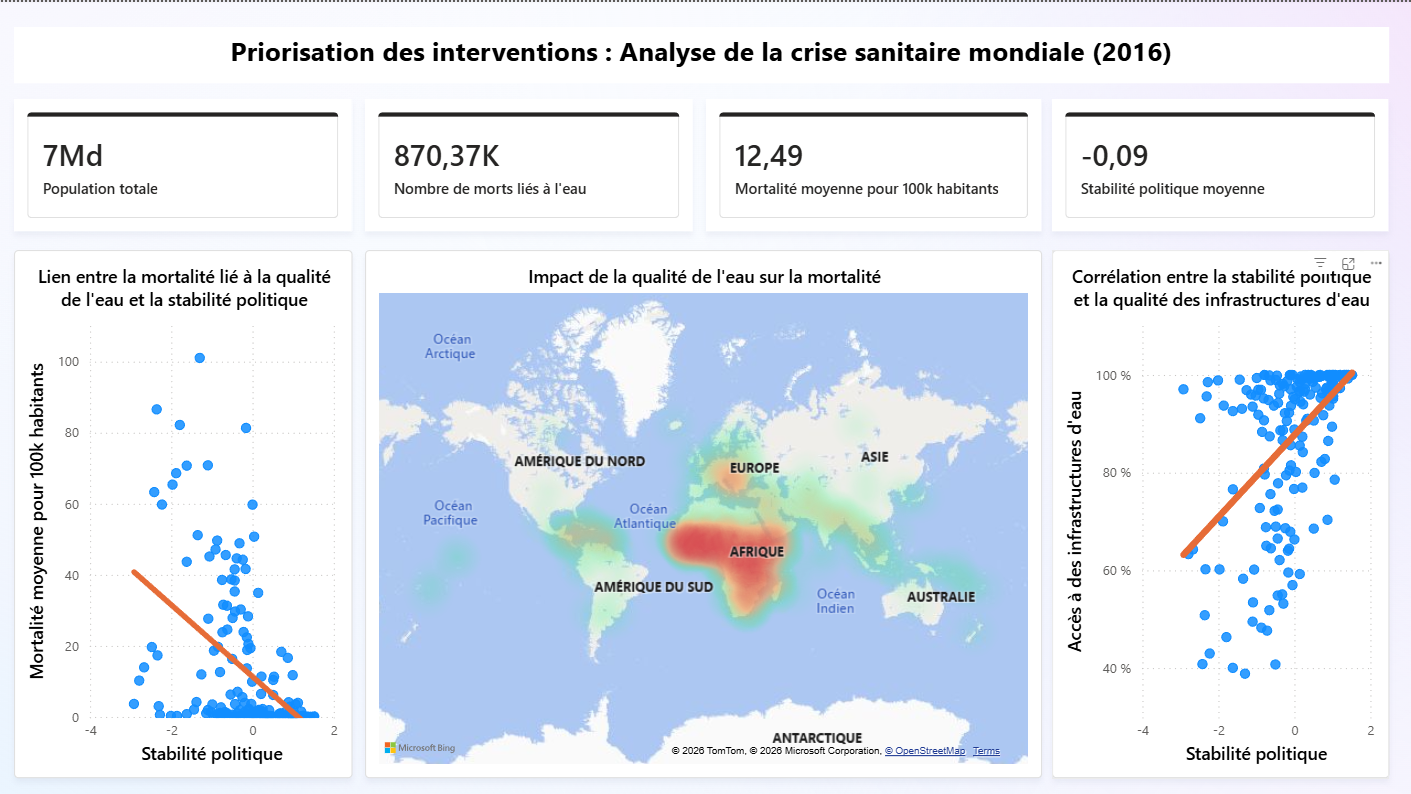

The dashboard page shown, as its layout file describes it:
{"tool":"powerbi","page":{"name":"Vue Mondiale","canvas":[1280,720],"ordinal":0},"visuals":[{"type":"map","title":"Impact de la qualité de l''eau sur la mortalité","fields":{"Category":["DIM_Geography.COUNTRY"],"Size":["Avg(MortalityRateAttributedToWater.Mortality rate attributed to exposure to unsafe WASH services)"]},"box":[330.7,224.8,613.8,479.4],"z":0},{"type":"cardVisual","fields":{"Data":["Mesures.Total Population"]},"box":[13.1,88,306.9,120.1],"z":3},{"type":"textbox","box":[13.1,22.6,1246.7,51.2],"z":4},{"type":"cardVisual","fields":{"Data":["Sum(MortalityRateAttributedToWater.WASH deaths)"]},"box":[330.7,88,297.4,120.1],"z":5},{"type":"cardVisual","fields":{"Data":["Avg(PoliticalStability.Political_Stability)"]},"box":[954.1,88,305.7,120.1],"z":6},{"type":"cardVisual","fields":{"Data":["Avg(MortalityRateAttributedToWater.Mortality rate attributed to exposure to unsafe WASH services)"]},"box":[640,88,304.5,120.1],"z":7},{"type":"scatterChart","title":"Lien entre la mortalité lié à la qualité de l''eau et la stabilité politique","fields":{"Category":["DIM_Geography.COUNTRY"],"X":["Avg(PoliticalStability.Political_Stability)"],"Y":["Avg(MortalityRateAttributedToWater.Mortality rate attributed to exposure to unsafe WASH services)"]},"box":[13.1,224.8,306.9,479.4],"z":8},{"type":"scatterChart","title":"Corrélation entre la stabilité politique et la qualité des infrastructures d''eau","fields":{"Category":["DIM_Geography.COUNTRY"],"X":["Avg(PoliticalStability.Political_Stability)"],"Y":["Sum(BasicAndSafelyManagedDrinkingWaterServices.Population using at least basic drinking-water services (%))"]},"box":[954.1,224.8,305.7,479.4],"z":9}]}

Visuals, with their boxes in screenshot pixels (x1, y1, x2, y2), scaled from the page's 1280x720 canvas onto the 1411x794 screenshot:
"Impact de la qualité de l''eau sur la mortalité" map: box(365, 248, 1041, 777)
cardVisual - Mesures.Total Population: box(14, 97, 353, 229)
textbox: box(14, 25, 1389, 81)
cardVisual - Sum(MortalityRateAttributedToWater.WASH deaths): box(365, 97, 692, 229)
cardVisual - Avg(PoliticalStability.Political_Stability): box(1052, 97, 1389, 229)
cardVisual - Avg(MortalityRateAttributedToWater.Mortality rate attributed to exposure to unsafe WASH services): box(706, 97, 1041, 229)
"Lien entre la mortalité lié à la qualité de l''eau et la stabilité politique" scatterChart: box(14, 248, 353, 777)
"Corrélation entre la stabilité politique et la qualité des infrastructures d''eau" scatterChart: box(1052, 248, 1389, 777)
